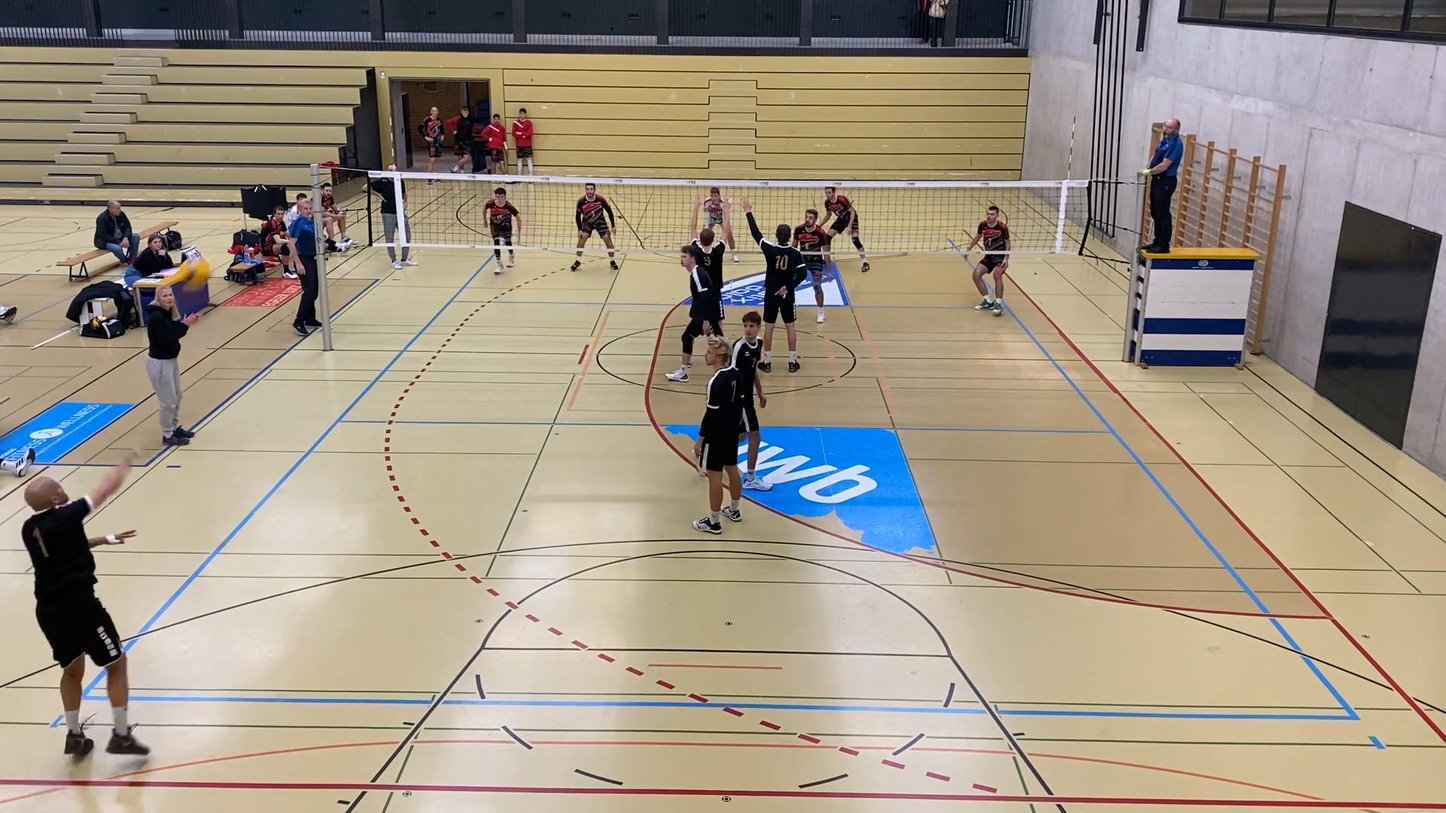Player: (667, 202, 731, 381), (742, 199, 807, 372), (693, 336, 742, 534), (666, 244, 721, 382), (730, 311, 772, 490), (966, 206, 1011, 315), (793, 209, 830, 323), (571, 183, 618, 271), (825, 186, 869, 272), (484, 187, 521, 273), (702, 187, 725, 229)
Serve: (0, 438, 165, 778)
ball: (161, 256, 212, 288)
